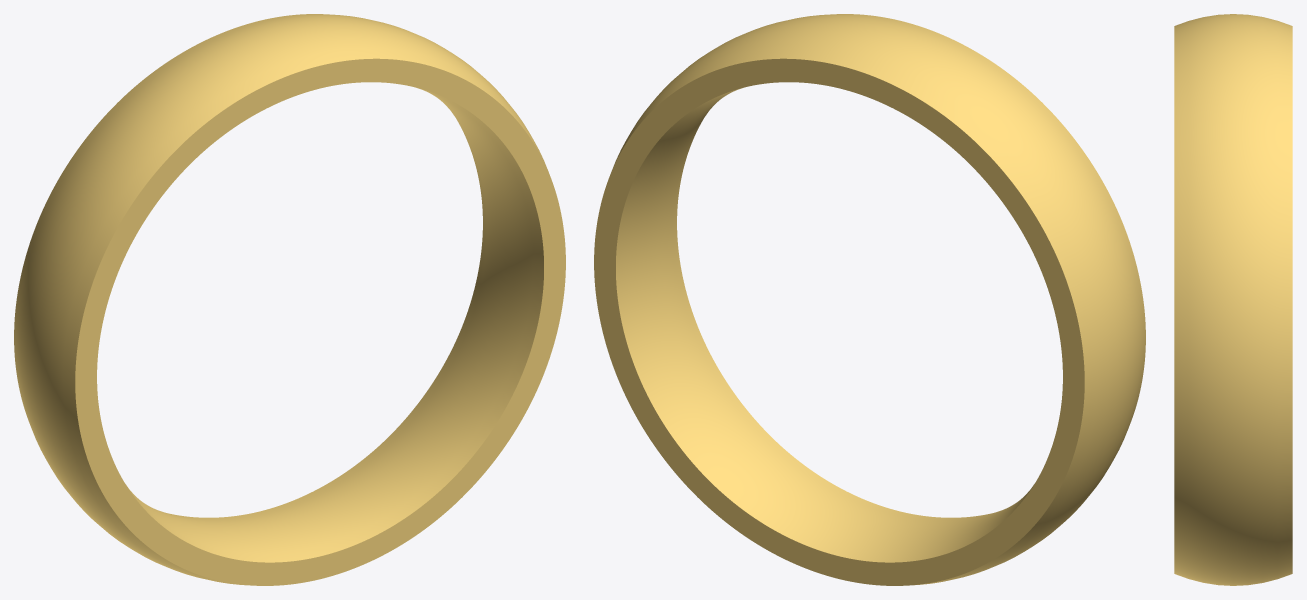
File: ginther_webgi.glb
3 views of the same model, side by side, from view 1: azimuth 30°, elevation 25°; view 2: azimuth 150°, elevation 25°; view 3: azimuth 270°, elevation 25° (orthographic). The views are drawn at different scales.
Visible parts, largest first — view 1: Ginther; view 2: Ginther; view 3: Ginther.
Boxes of the visible parts, left/top/right/bottom form: Ginther: left=14, top=14, right=565, bottom=585; Ginther: left=594, top=14, right=1145, bottom=585; Ginther: left=1174, top=14, right=1292, bottom=585.
Bounding box in the file's own units: 2.8 × 2.8 × 0.5791.
